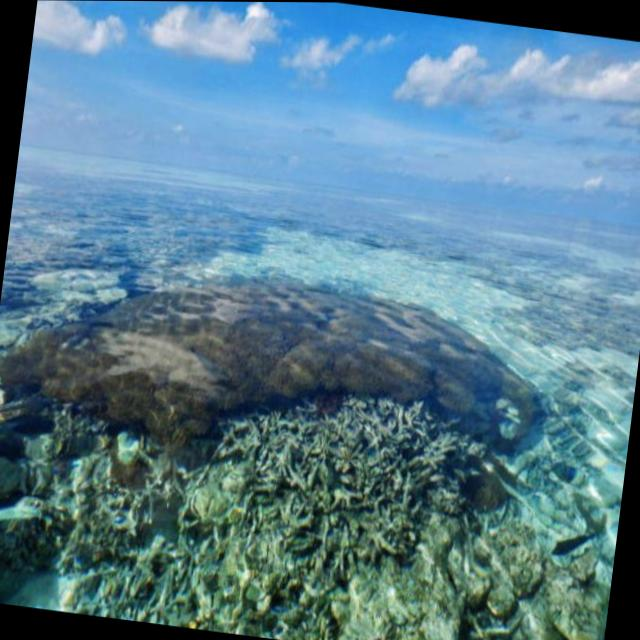Dead Coral: (16, 351, 501, 640)
Healthy Coral: (10, 248, 544, 437)
